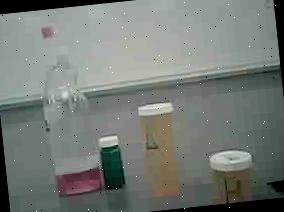Bottle A: (131, 92, 192, 207)
Bottle B: (200, 139, 256, 206)
Bottle C: (97, 130, 132, 194)
hazard: (24, 5, 106, 202)
